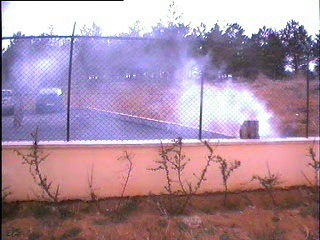smoke: (139, 31, 279, 140)
